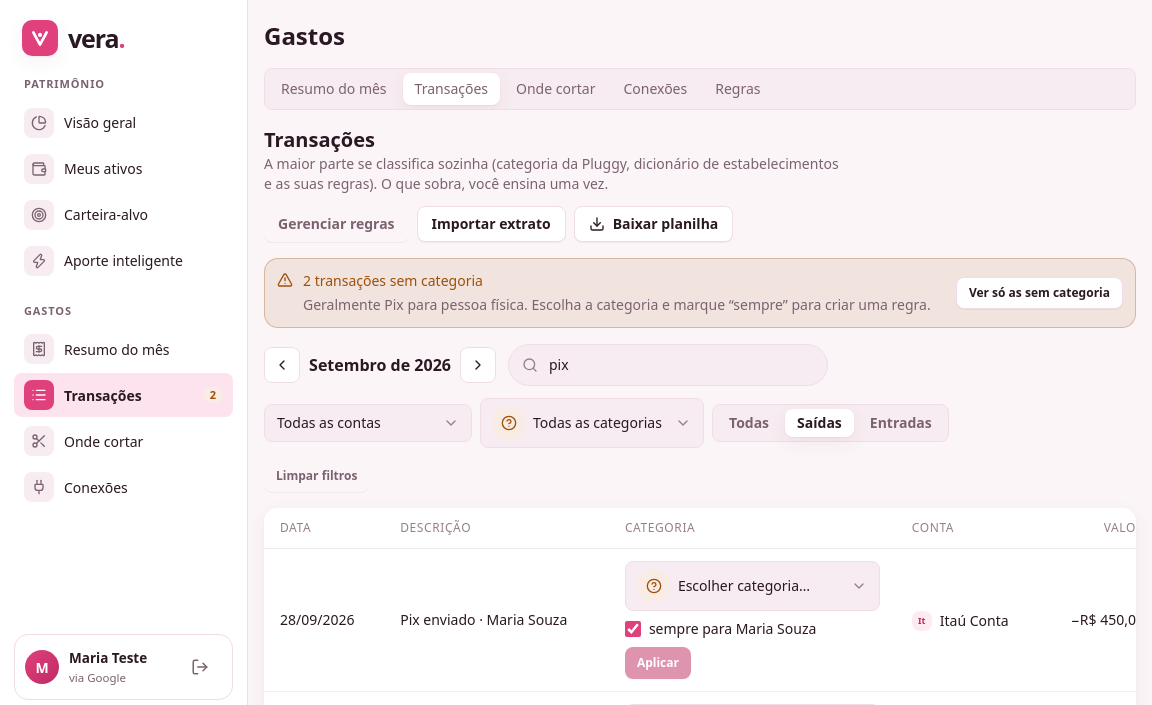
it: /spending/transactions: planilha › baixa com os mesmos filtros, sem page, e usa o nome do cabeçalho
Expected: the element named "Mês" is shown, [264,347,496,383]
Click the button "Baixar planilha".
click(653, 224)  # box [574,206,733,242]
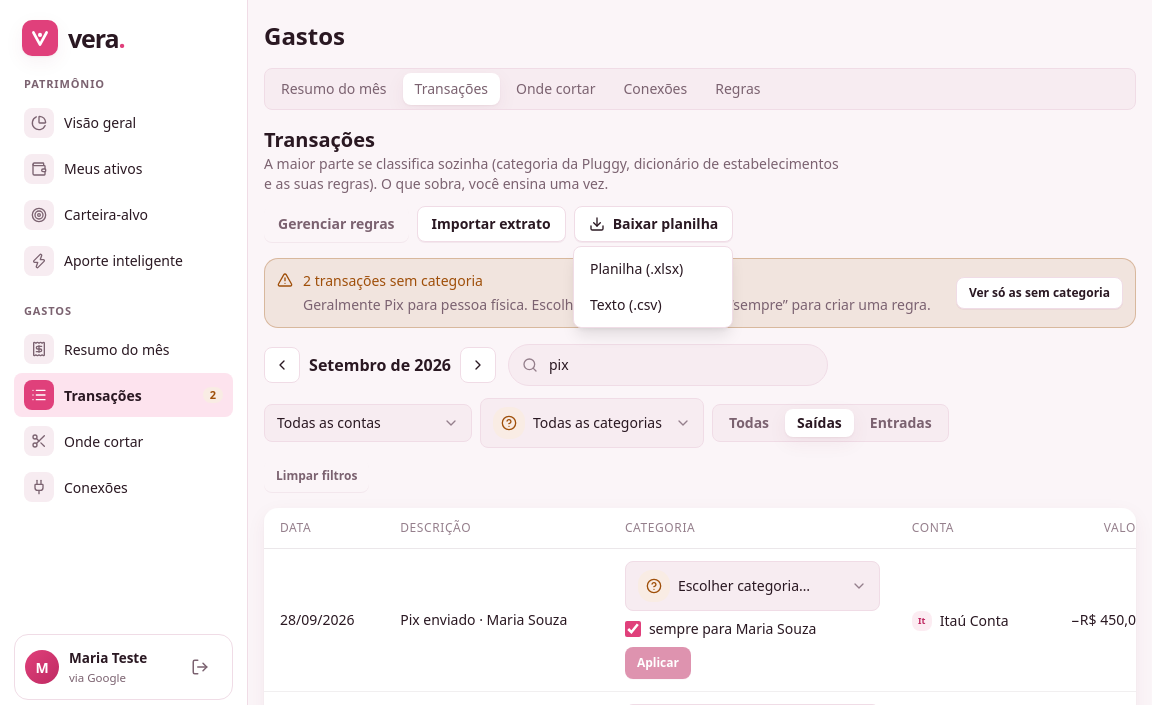
Click the menu item "Planilha (.xlsx)".
click(637, 268)  # box [590,259,683,278]
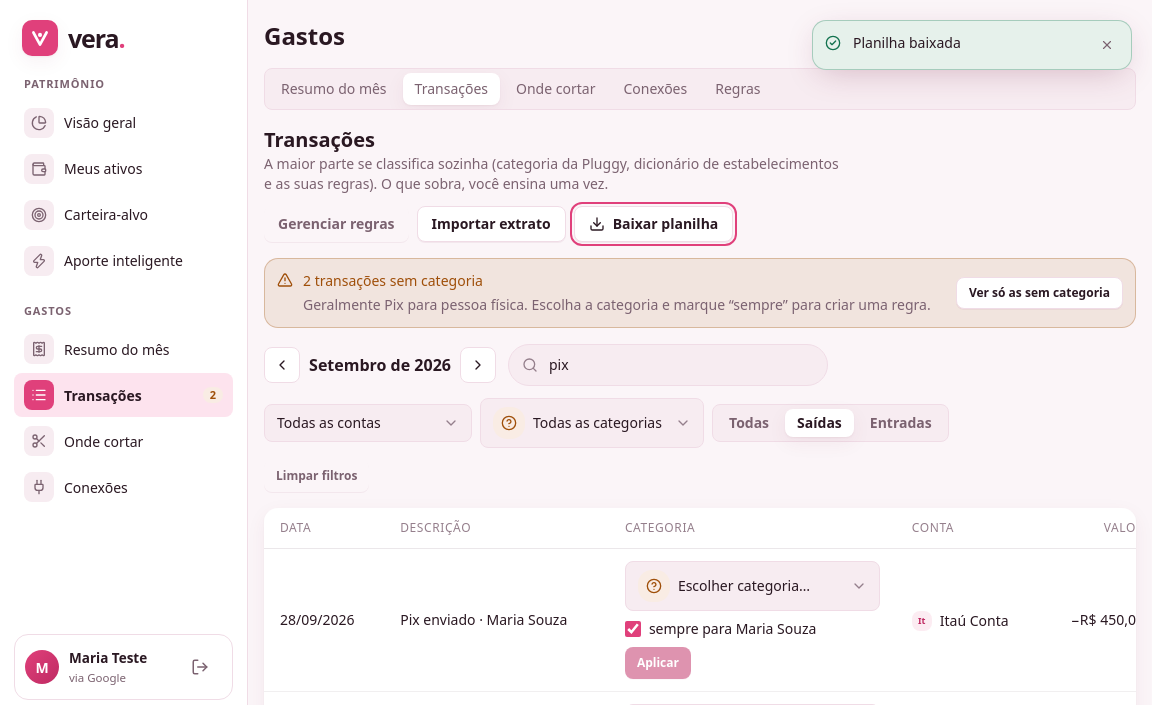
Now the text "Planilha baixada" is shown, box [853,33,961,53]
